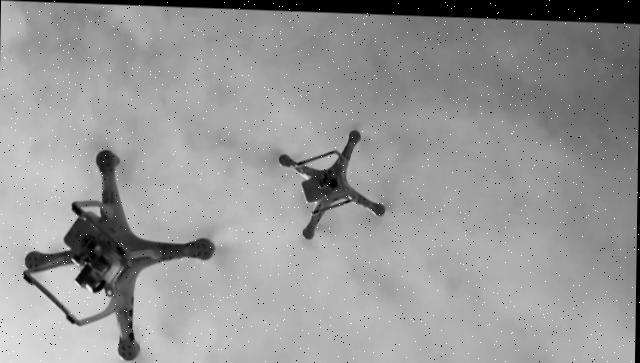drone: (21, 146, 217, 363), (274, 123, 388, 242)
